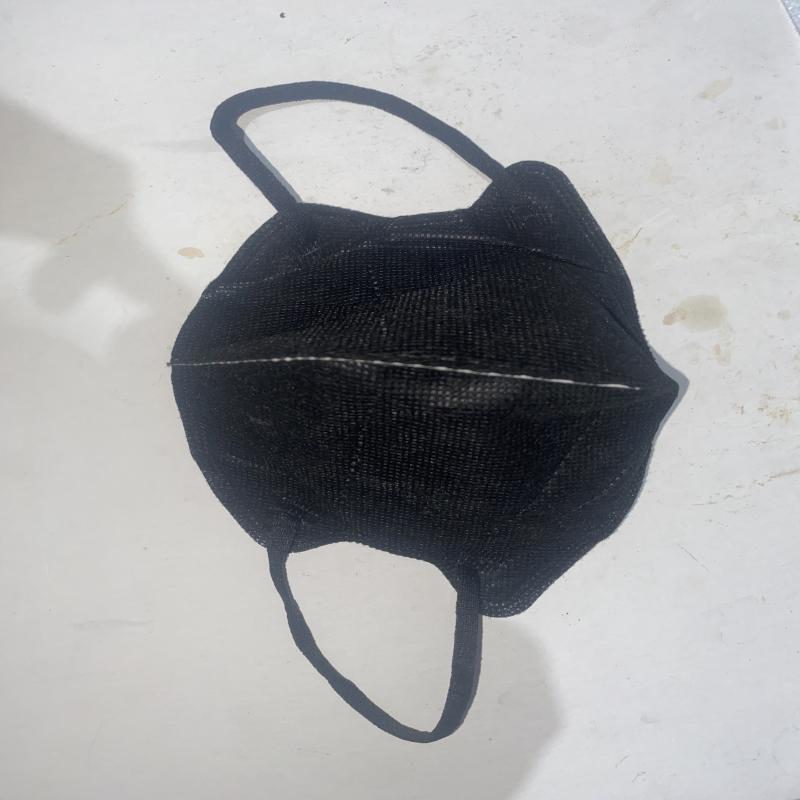facemask: (167, 81, 688, 747)
